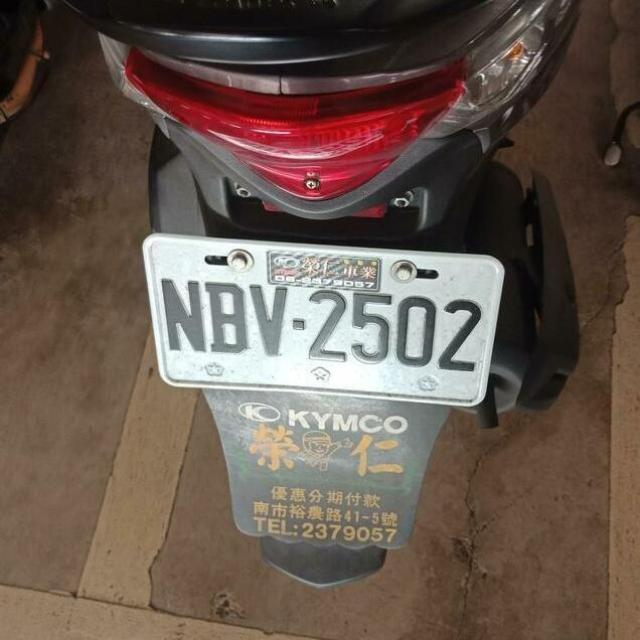W: (134, 222, 512, 425)
